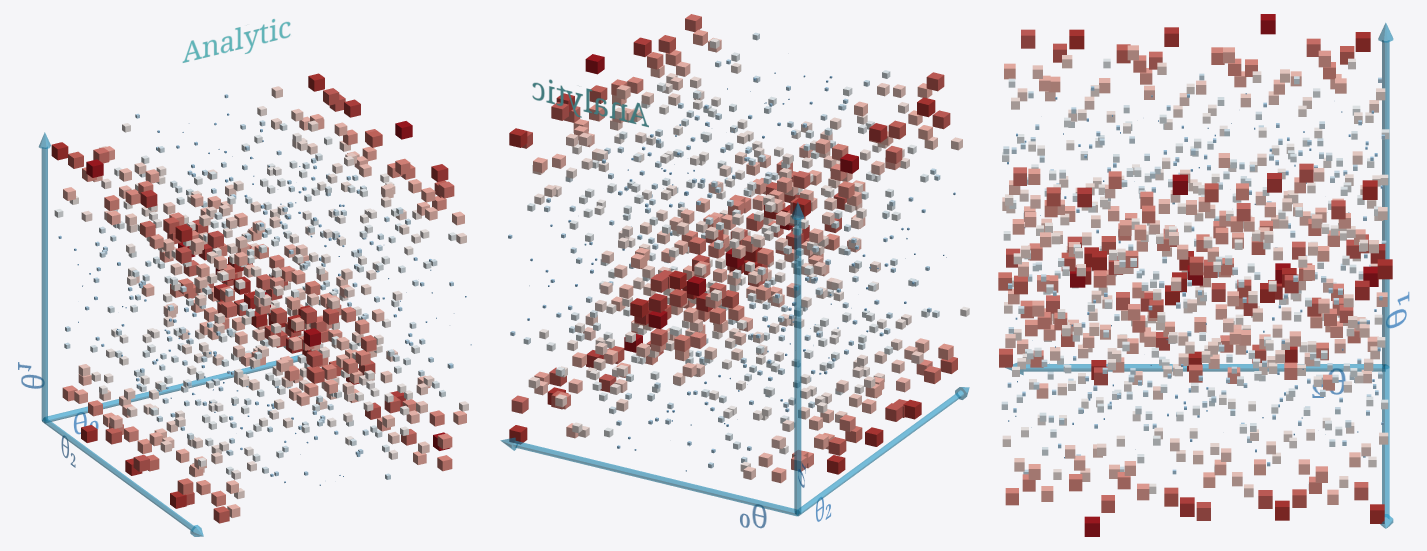
The model's file is quantum-analytic.glb.
3 views of the same model, side by side, from view 1: azimuth 30°, elevation 25°; view 2: azimuth 150°, elevation 25°; view 3: azimuth 270°, elevation 25° (orthographic). The views are drawn at different scales.
Visible parts, largest first — view 1: y axis, z axis, x axis, Analytic; view 2: y axis, x axis, z axis, Analytic; view 3: y axis, z axis, x axis.
Part boxes in pixels (left/top/right/bottom): y axis: left=39, top=132, right=50, bottom=421; z axis: left=42, top=417, right=203, bottom=536; x axis: left=44, top=354, right=301, bottom=422; Analytic: left=182, top=19, right=290, bottom=62; y axis: left=791, top=202, right=804, bottom=514; x axis: left=500, top=437, right=798, bottom=516; z axis: left=796, top=387, right=969, bottom=516; Analytic: left=532, top=79, right=648, bottom=127; y axis: left=1378, top=23, right=1393, bottom=368; z axis: left=1005, top=363, right=1385, bottom=374; x axis: left=1380, top=364, right=1393, bottom=528.
Bounding box in the file's own units: 1.09 × 1.3 × 1.09.
87 materials, 4 textured.
